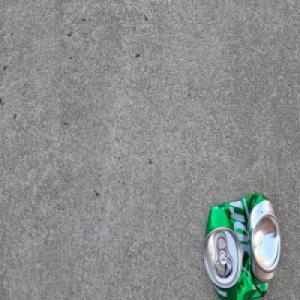SodaCan: (202, 188, 280, 299)
